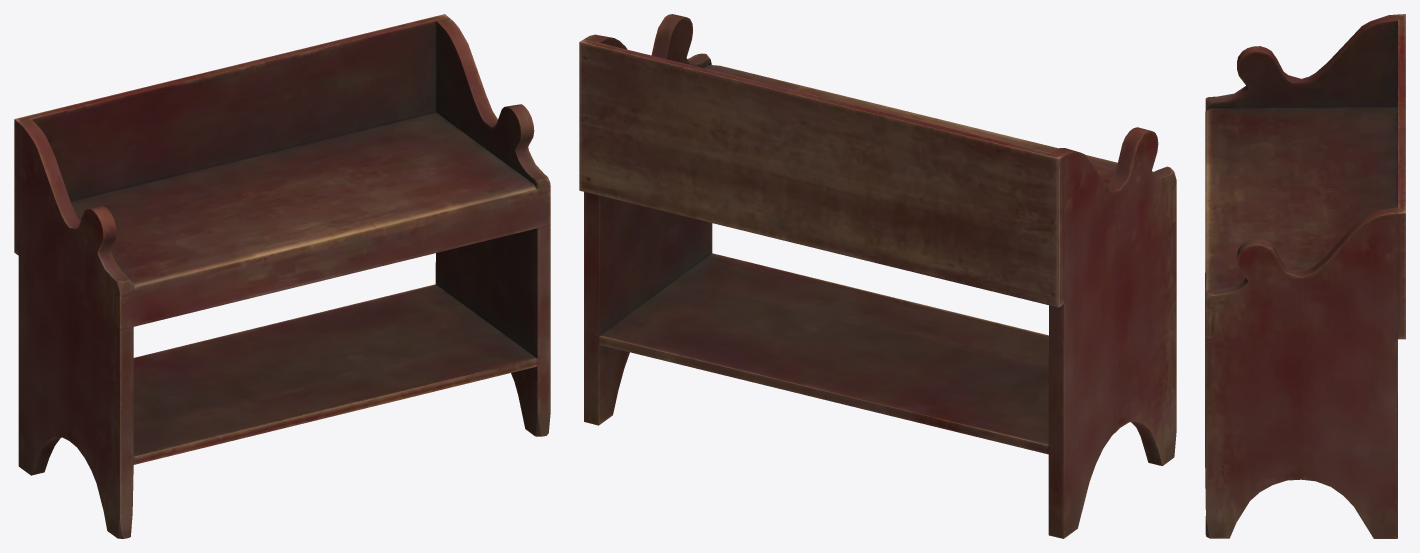
Rendered from painted_wooden_bench.glb.
3 views of the same model, side by side, from view 1: azimuth 30°, elevation 25°; view 2: azimuth 150°, elevation 25°; view 3: azimuth 270°, elevation 25° (orthographic). The views are drawn at different scales.
Parts seen in each view (by area): view 1: painted_wooden_bench; view 2: painted_wooden_bench; view 3: painted_wooden_bench.
Part boxes in pixels (bbox=[...]): painted_wooden_bench: bbox=[14, 14, 550, 538]; painted_wooden_bench: bbox=[579, 14, 1176, 538]; painted_wooden_bench: bbox=[1205, 14, 1405, 538].
Bounding box in the file's own units: 1.16 × 0.8893 × 0.4965.
Materials: 1 (1 with a texture image).
